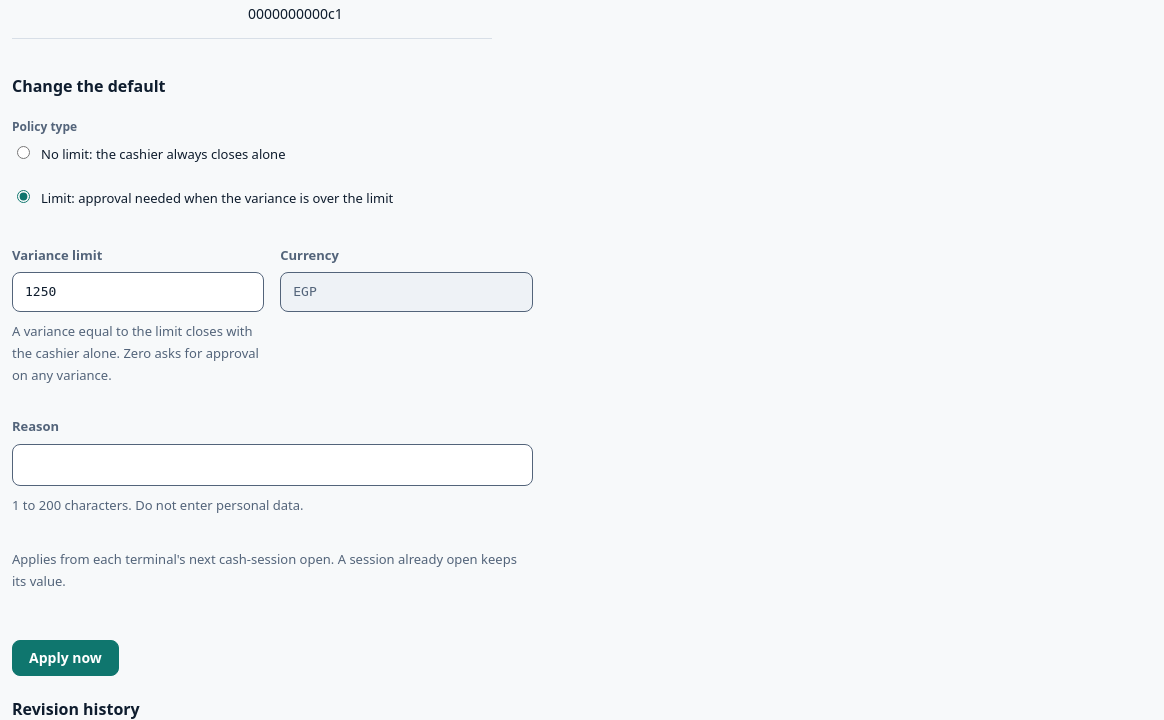
TenantPolicySection › 422 currency refusal shows its own copy
(page scrolled)
Check: the button "Apply now" is shown, box [12,640,119,676]
Type "x" into the field labelled "Reason" at (272, 465), box [12,444,532,486]
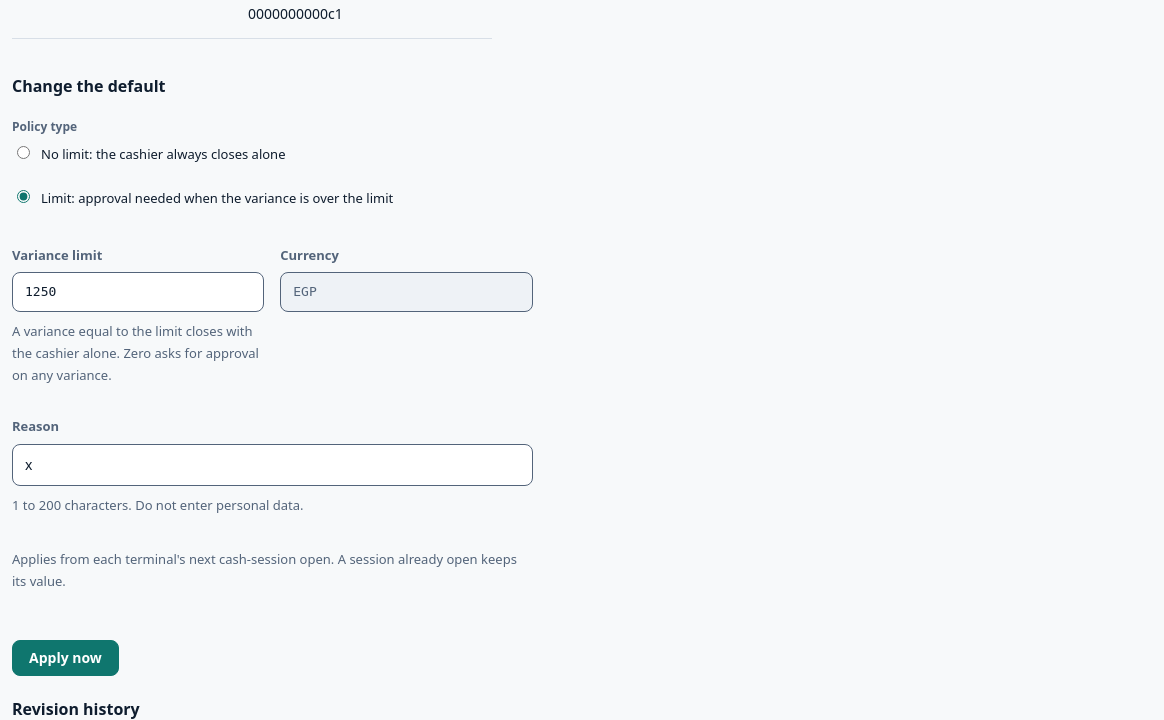
Click the button "Apply now" at (65, 658), box [12,640,119,676]
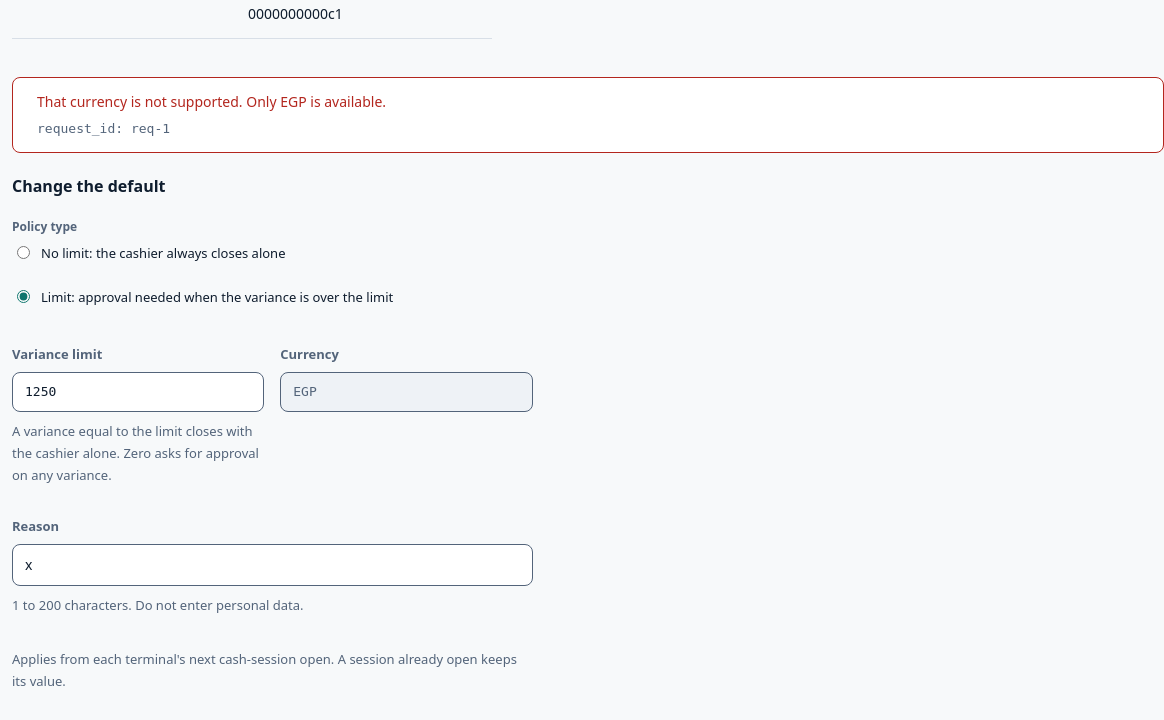
Check: the text "That currency is not supported. Only EGP is available." is shown, box [37,92,386,111]
